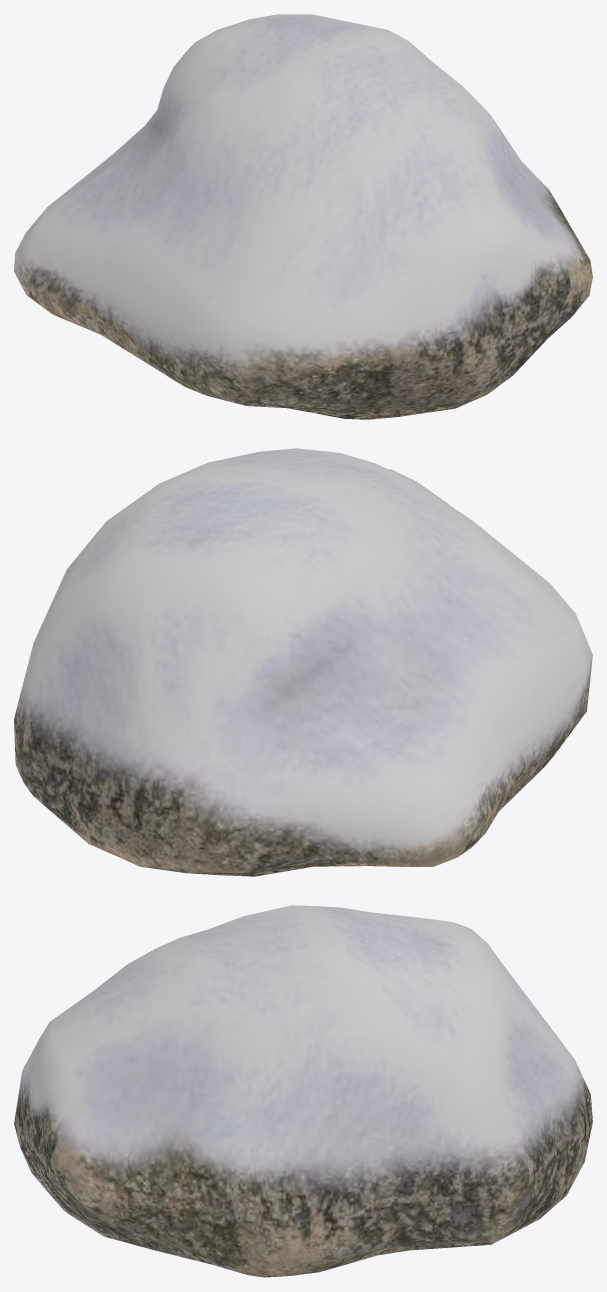
The model's file is Snow_Rock.glb.
3 views of the same model, one above another, from view 1: azimuth 30°, elevation 25°; view 2: azimuth 150°, elevation 25°; view 3: azimuth 270°, elevation 25° (orthographic). The views are drawn at different scales.
Parts seen in each view (by area): view 1: Cube; view 2: Cube; view 3: Cube.
Part boxes in pixels (x1,y1,x2,y2): Cube: (14,14,592,419); Cube: (14,448,592,876); Cube: (14,905,592,1277).
Size of the model in its own units: 902 by 559 by 972.
1 material, 1 textured.
